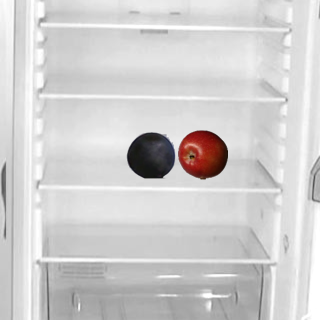Apple Braeburn: (177, 129, 227, 179)
Grape Blue: (125, 129, 175, 179)
